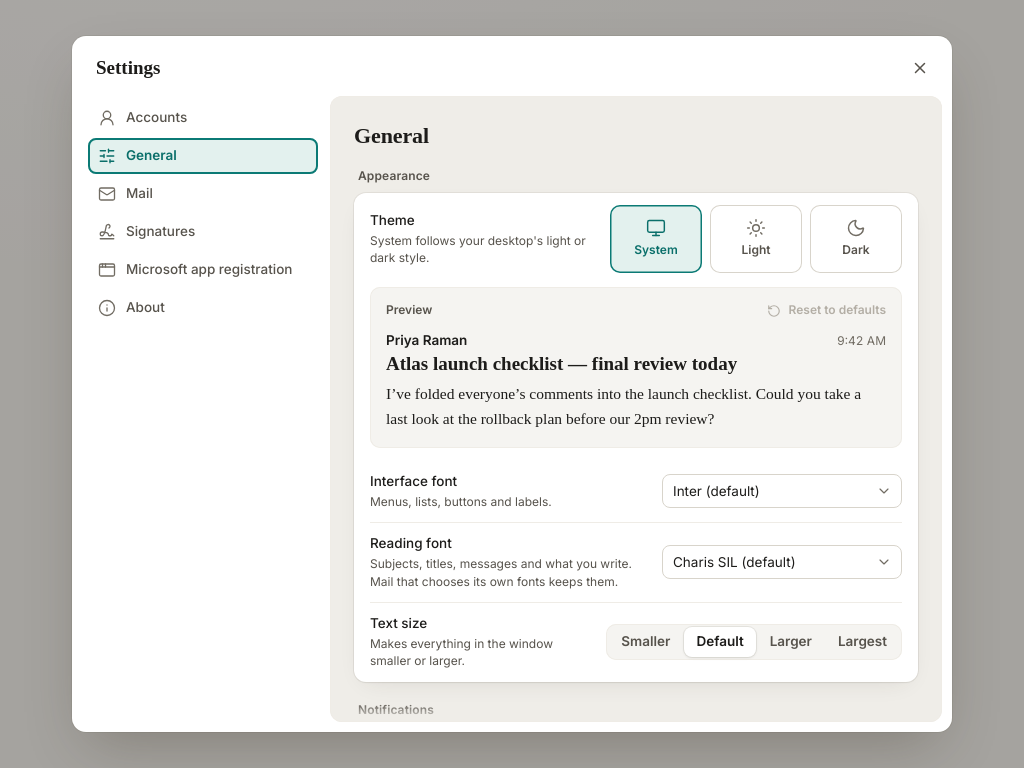
Test: Appearance › saves the text size, and resets the fonts and size to the defaults
The image size is (1024, 768).
expect the button "Reset to defaults" is disabled: met, box [758,297,894,325]
expect the element named "Text size" is shown: met, box [606,624,902,660]
Click the radio button labelled "Largest".
click(862, 641)  # box [838,633,887,649]
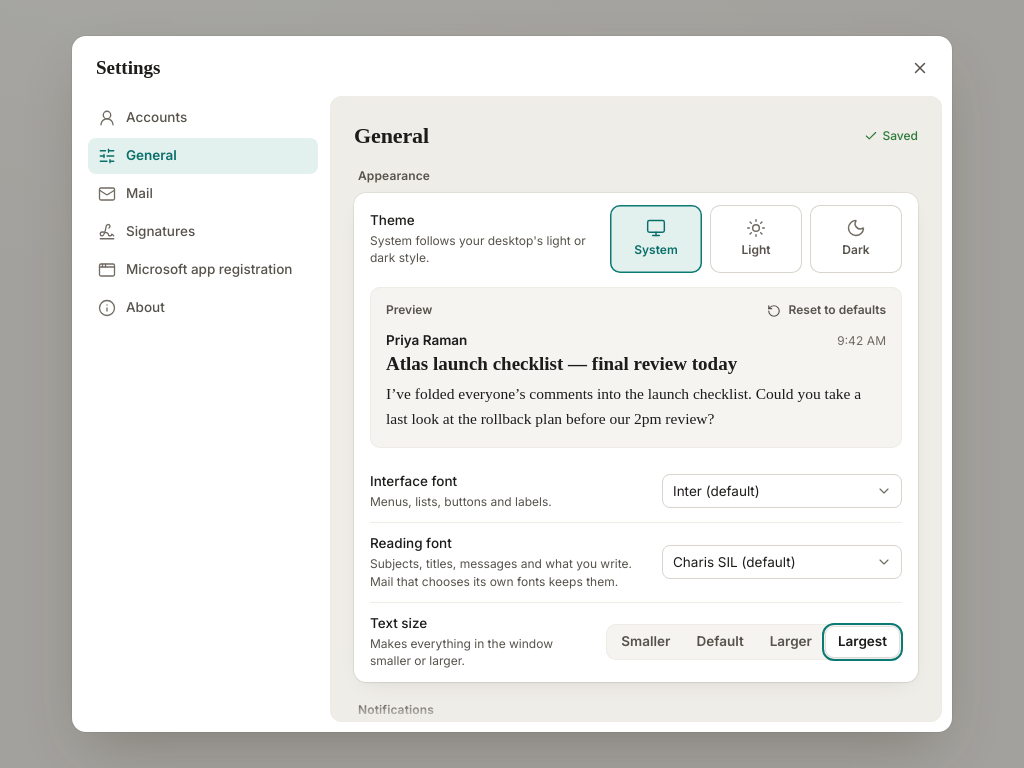
expect the radio button labelled "Largest" is checked: met, box [826,627,899,657]
Click the radio button labelled "Dark".
click(856, 239)  # box [810,205,902,273]
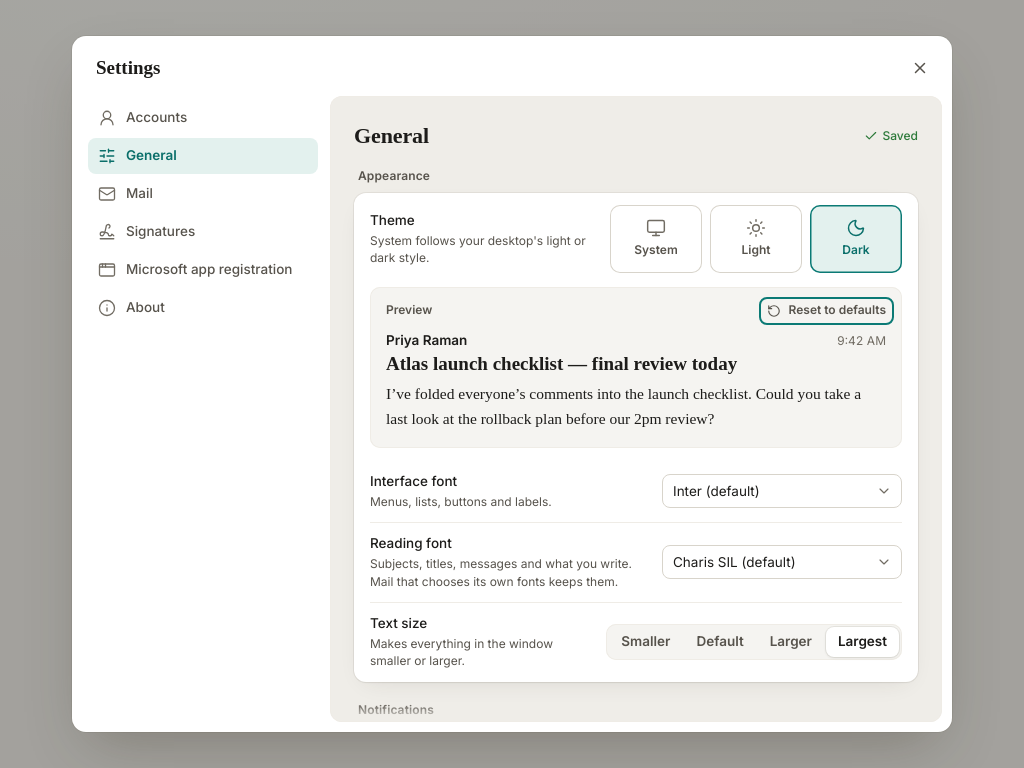
expect the button "Reset to defaults" is enabled: met, box [758,297,894,325]
Press Enter
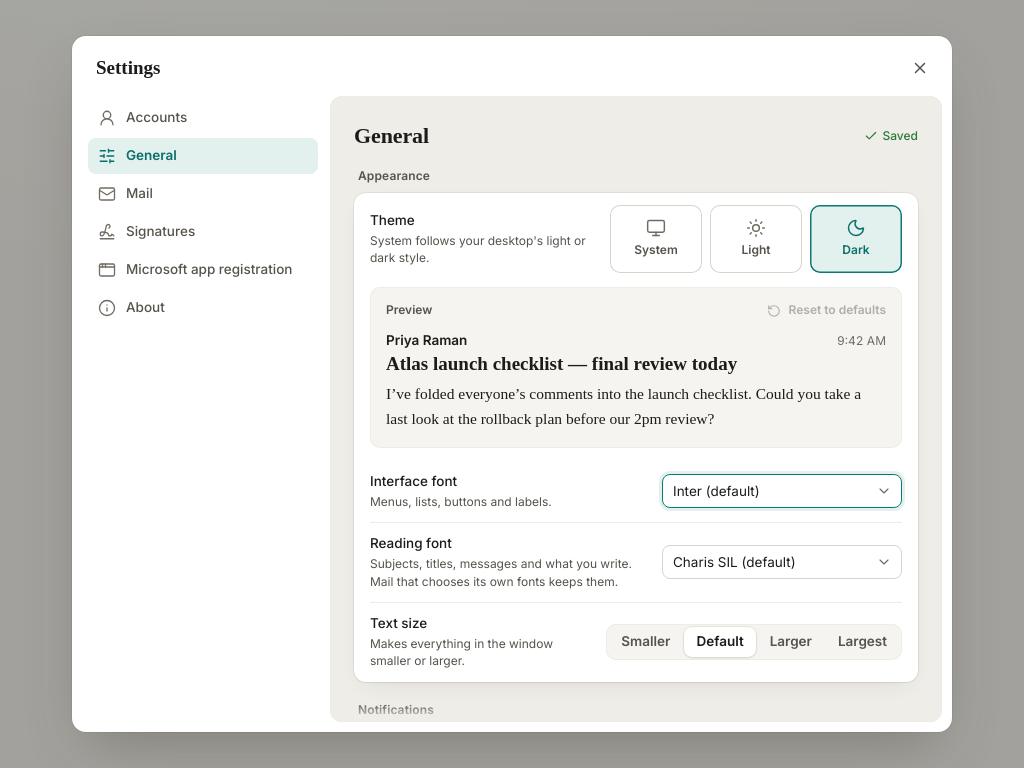
expect the radio button labelled "Default" is checked: met, box [684,627,756,657]
expect the button "Reset to defaults" is disabled: met, box [758,297,894,325]
